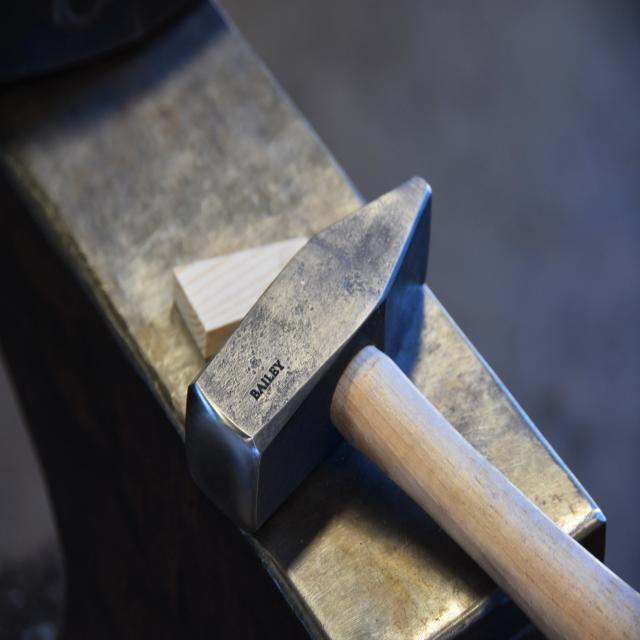hammer: (175, 166, 640, 640)
